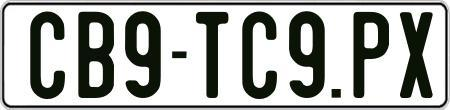9: (286, 10, 322, 102), (125, 8, 161, 98)
B: (76, 12, 114, 102)
C: (28, 11, 67, 99), (239, 11, 276, 101)
P: (352, 10, 387, 99)
T: (196, 12, 228, 104)
X: (397, 10, 435, 99)
